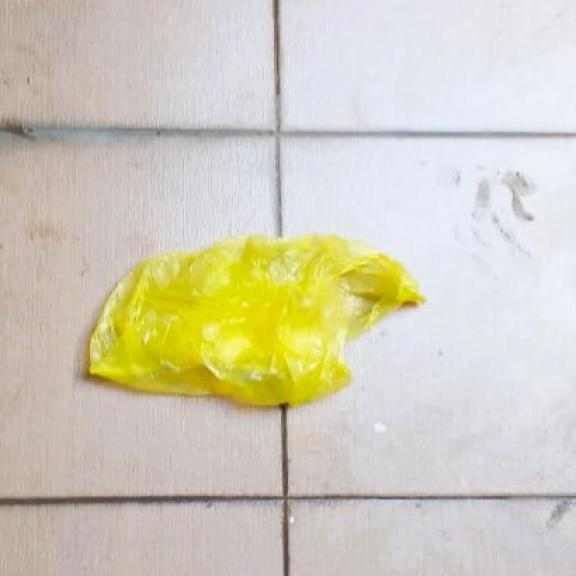Plastik: (85, 233, 427, 403)
